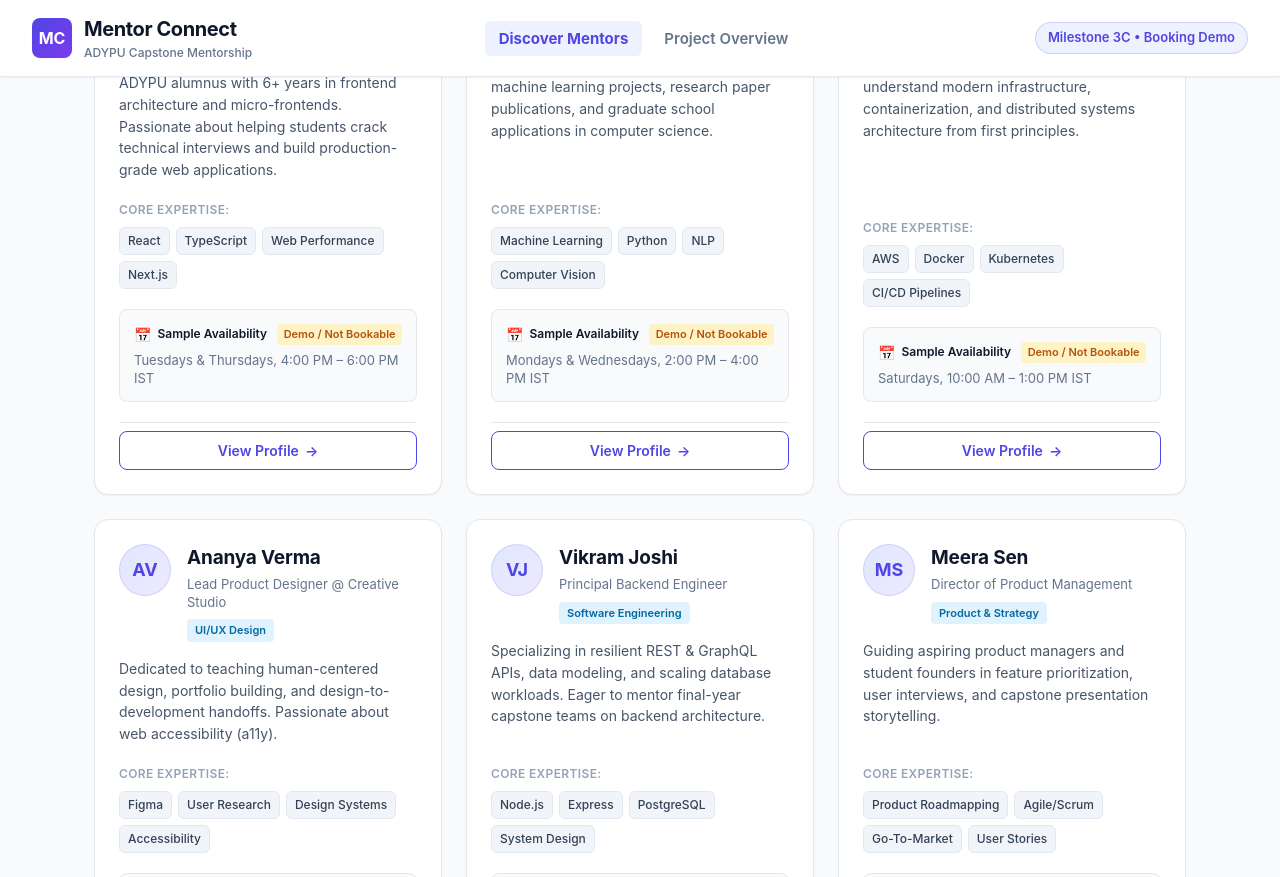
Test: Profile Navigation › returns to discovery directory when clicking Back to Mentors
(page scrolled)
Click the button with aria-label "View detailed profile of Aarav Sharma". click: (268, 450)
box: [119,431,417,470]
(page scrolled)
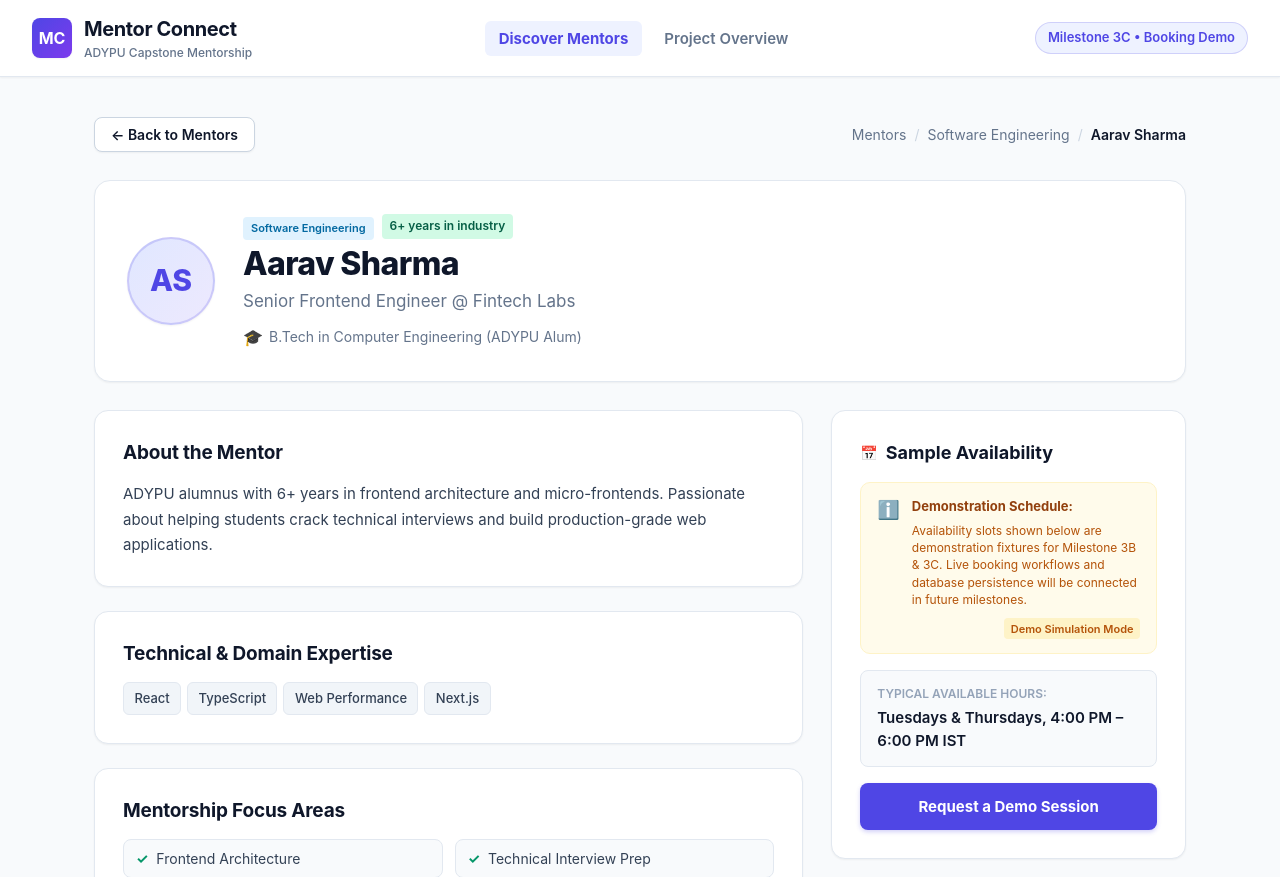
Click the button with aria-label "Return to mentor discovery page". click: (174, 134)
box: [94,117,255,152]
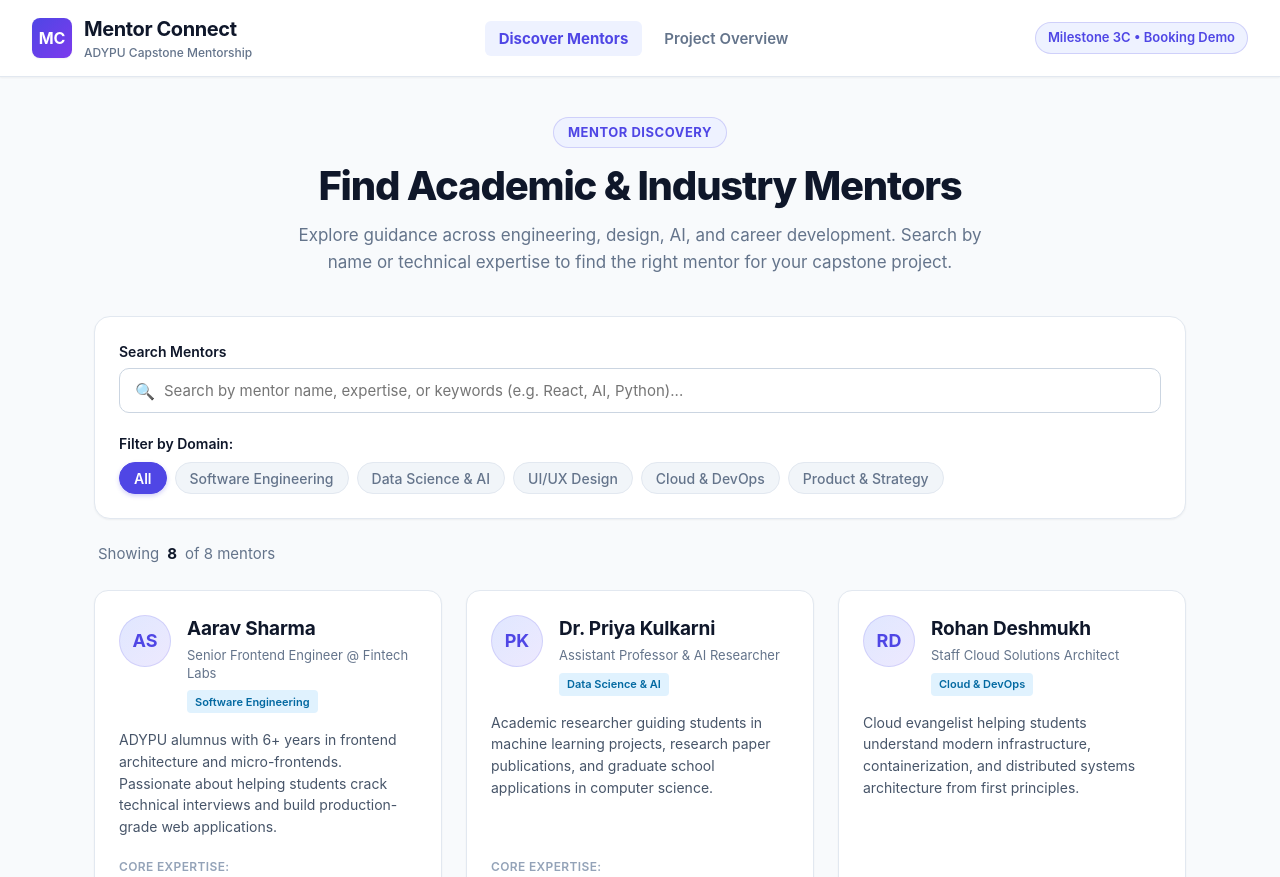
Expected: the heading "Find Academic & Industry Mentors" is shown, [318,161,962,210]
Expected: the element with class "results-count" reads "Showing 8 of 8 mentors", [98,543,275,566]
